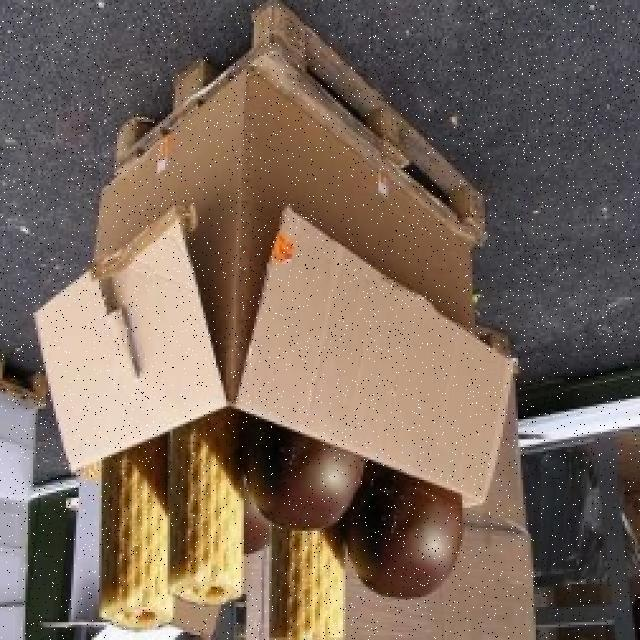box: (74, 102, 507, 522), (253, 546, 529, 640)
